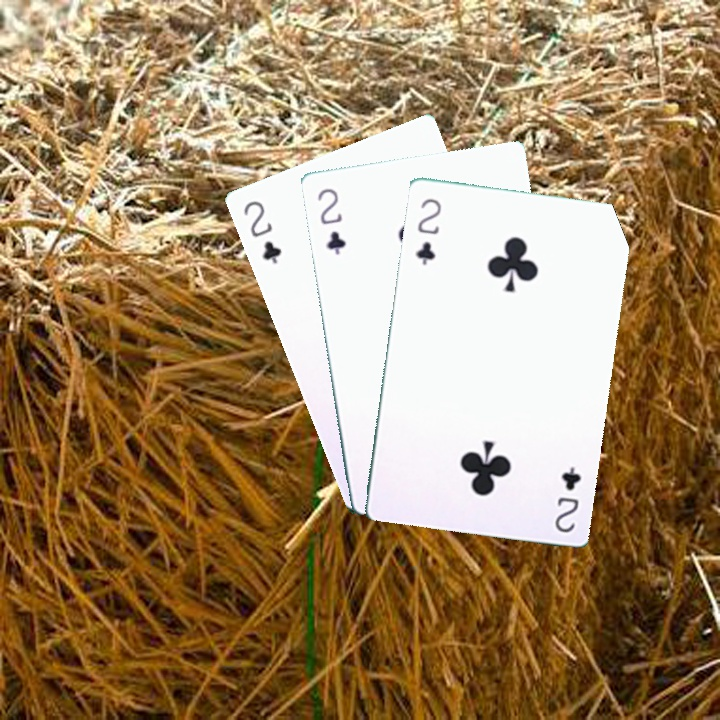2c: (239, 196, 284, 267), (313, 184, 349, 257), (411, 194, 444, 268), (551, 462, 584, 536)
